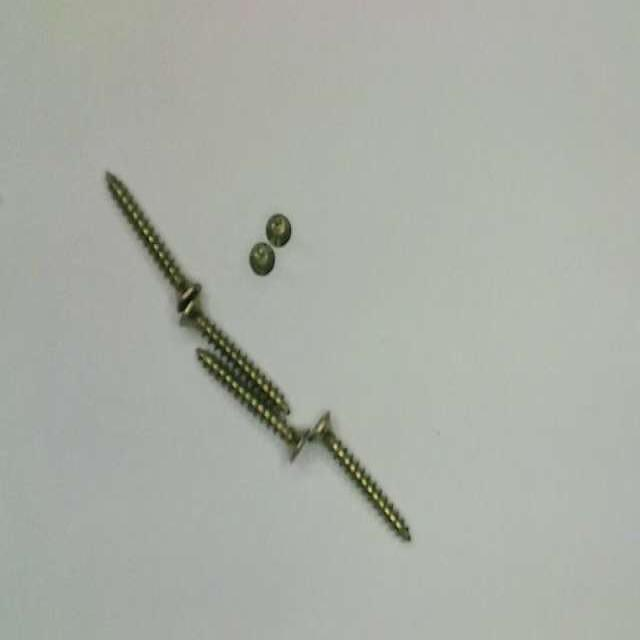Parafuso: (104, 168, 201, 311), (308, 408, 411, 540), (180, 294, 291, 414), (195, 347, 311, 461), (266, 213, 291, 247), (249, 241, 274, 275)
